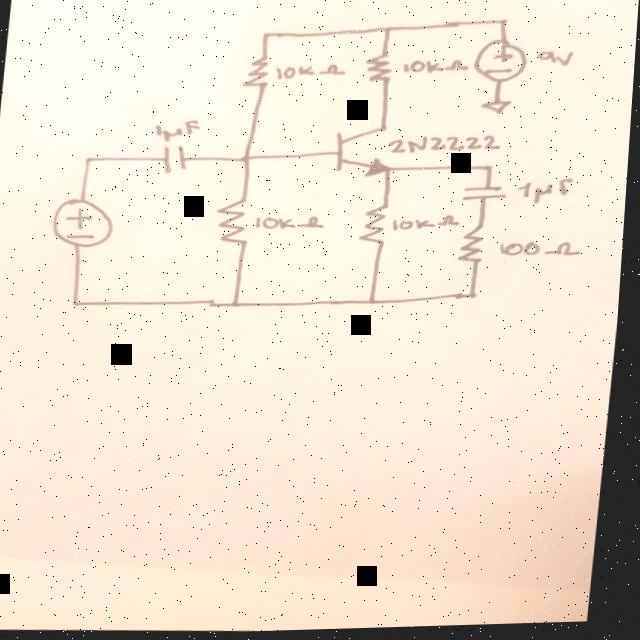capacitor: (461, 186, 512, 208), (161, 144, 191, 176)
ground: (478, 102, 516, 120)
junction: (242, 153, 256, 166), (232, 301, 245, 310), (486, 166, 497, 176), (73, 299, 84, 309), (469, 293, 481, 302), (369, 299, 381, 308), (382, 27, 394, 35), (85, 156, 98, 163), (261, 33, 272, 41), (499, 20, 509, 28)
resistor: (213, 199, 257, 247), (360, 206, 393, 247), (457, 229, 492, 267), (241, 57, 272, 91), (363, 55, 396, 85)
source: (52, 196, 120, 250), (471, 41, 530, 88)
text: (388, 134, 506, 161), (500, 240, 587, 263), (274, 61, 351, 86), (519, 178, 578, 209), (392, 214, 466, 237), (398, 59, 471, 79), (151, 118, 204, 145), (256, 215, 329, 234), (537, 51, 575, 72)
transistor: (331, 125, 396, 183)
